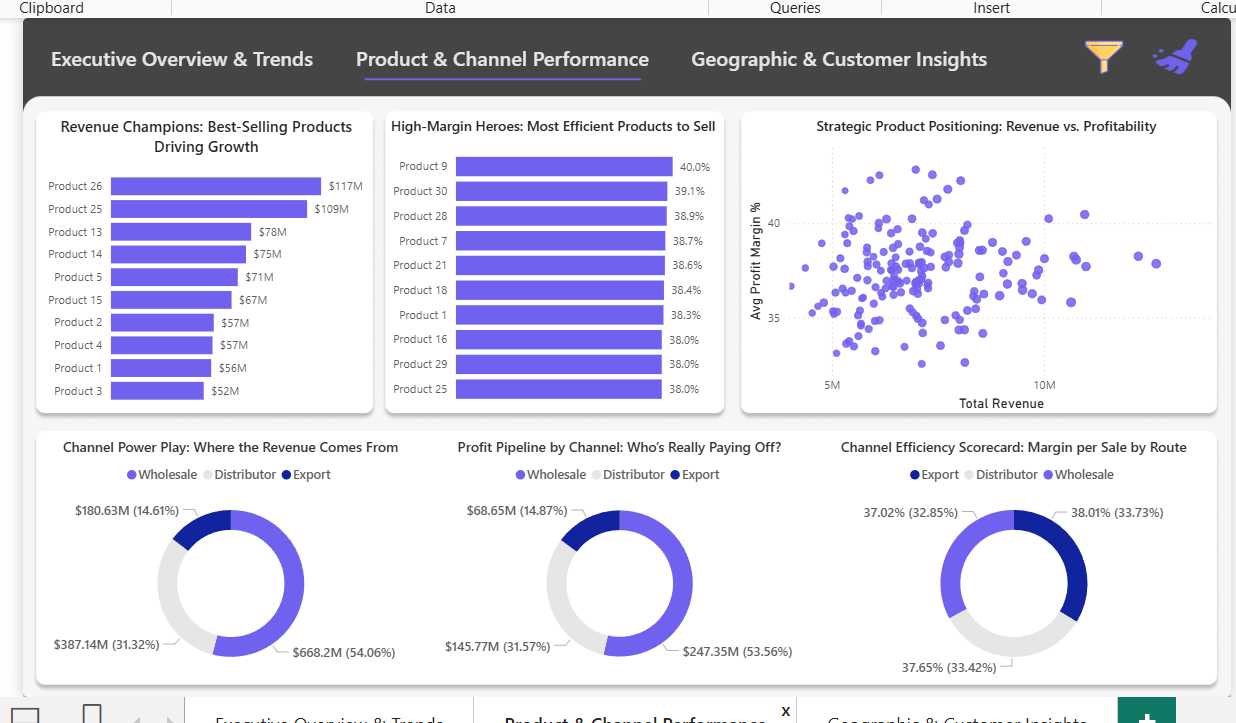

What the dashboard file says about the page in this screenshot:
{"tool":"powerbi","page":{"name":"Product & Channel Performance","canvas":[1280,720],"ordinal":2},"visuals":[{"type":"barChart","title":"Revenue Champions: Best-Selling Products Driving Growth","fields":{"Category":["Sales_data.product_name"],"Y":["Measures_.Total Revenue"]},"box":[16,103,357,316],"z":0},{"type":"scatterChart","title":"Strategic Product Positioning: Revenue vs. Profitability","fields":{"X":["Customer Summary.Total Revenue"],"Y":["Customer Summary.Avg Profit Margin %"],"Size":["Sum(Customer Summary.Order Count)"]},"box":[764,103,516,317],"z":1000},{"type":"barChart","title":"High-Margin Heroes: Most Efficient Products to Sell","fields":{"Category":["Sales_data.product_name"],"Y":["Measures_.Profit Margin %"]},"box":[382,103,361,316],"z":2000},{"type":"donutChart","title":"Channel Power Play: Where the Revenue Comes From","fields":{"Category":["Sales_data.channel"],"Y":["Measures_.Total Revenue"]},"box":[16.7,443.3,408.3,261.7],"z":3000},{"type":"donutChart","title":"Profit Pipeline by Channel: Who’s Really Paying Off?","fields":{"Category":["Sales_data.channel"],"Y":["Measures_.Total Profit"]},"box":[436.7,443.3,390,261.7],"z":4000},{"type":"donutChart","title":"Channel Efficiency Scorecard: Margin per Sale by Route","fields":{"Category":["Sales_data.channel"],"Y":["Measures_.Profit Margin %"]},"box":[843.3,443.3,415,261.7],"z":5000},{"type":"actionButton","box":[337.2,14.1,342.3,55.1],"z":6000},{"type":"actionButton","box":[9,14.1,317.9,55.1],"z":7000},{"type":"actionButton","box":[695,13.8,341.2,55],"z":8000},{"type":"actionButton","box":[1188,14,70,55],"z":9000},{"type":"actionButton","box":[1120,21,53,42],"z":10000}]}

Visuals, with their boxes on the page's 1280x720 design canvas (x1, y1, x2, y2). These are canvas units, not pixel positions in the 1236x723 screenshot, which may show the page scaled, cropped or inside an application window:
"Revenue Champions: Best-Selling Products Driving Growth" barChart: rect(16, 103, 373, 419)
"Strategic Product Positioning: Revenue vs. Profitability" scatterChart: rect(764, 103, 1280, 420)
"High-Margin Heroes: Most Efficient Products to Sell" barChart: rect(382, 103, 743, 419)
"Channel Power Play: Where the Revenue Comes From" donutChart: rect(17, 443, 425, 705)
"Profit Pipeline by Channel: Who’s Really Paying Off?" donutChart: rect(437, 443, 827, 705)
"Channel Efficiency Scorecard: Margin per Sale by Route" donutChart: rect(843, 443, 1258, 705)
actionButton: rect(337, 14, 680, 69)
actionButton: rect(9, 14, 327, 69)
actionButton: rect(695, 14, 1036, 69)
actionButton: rect(1188, 14, 1258, 69)
actionButton: rect(1120, 21, 1173, 63)
